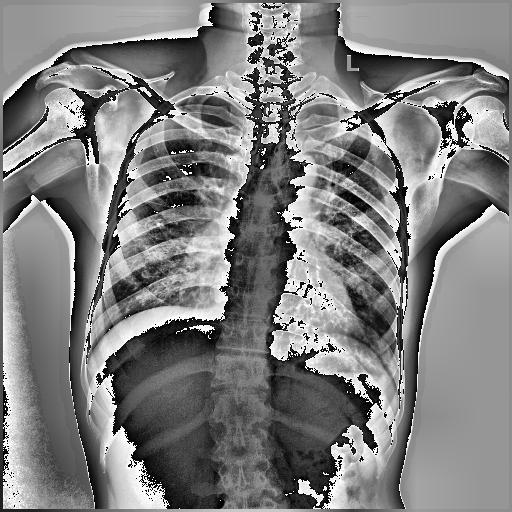0- Aortic enlargement: (272, 147, 318, 198)
5- ILD: (123, 214, 220, 315), (310, 190, 372, 336), (320, 209, 388, 310), (123, 220, 202, 306)
7- Lung Opacity: (126, 230, 196, 304)
8- Nodule-Mass: (140, 270, 152, 280)
